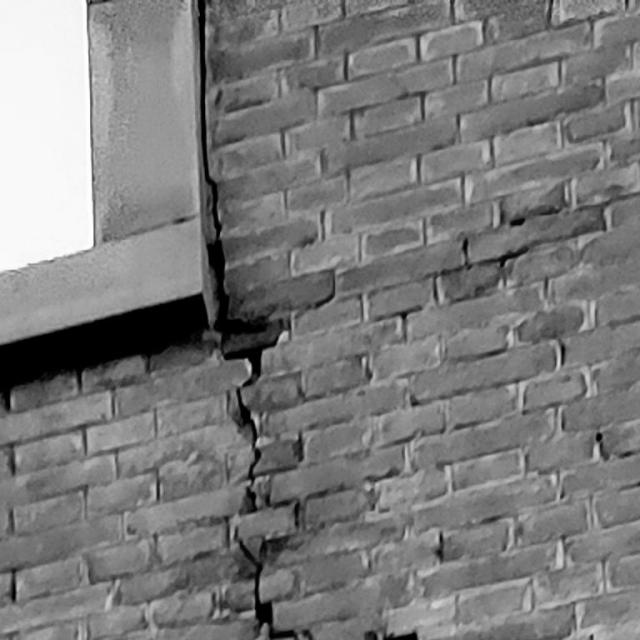crack: (199, 1, 293, 640)
